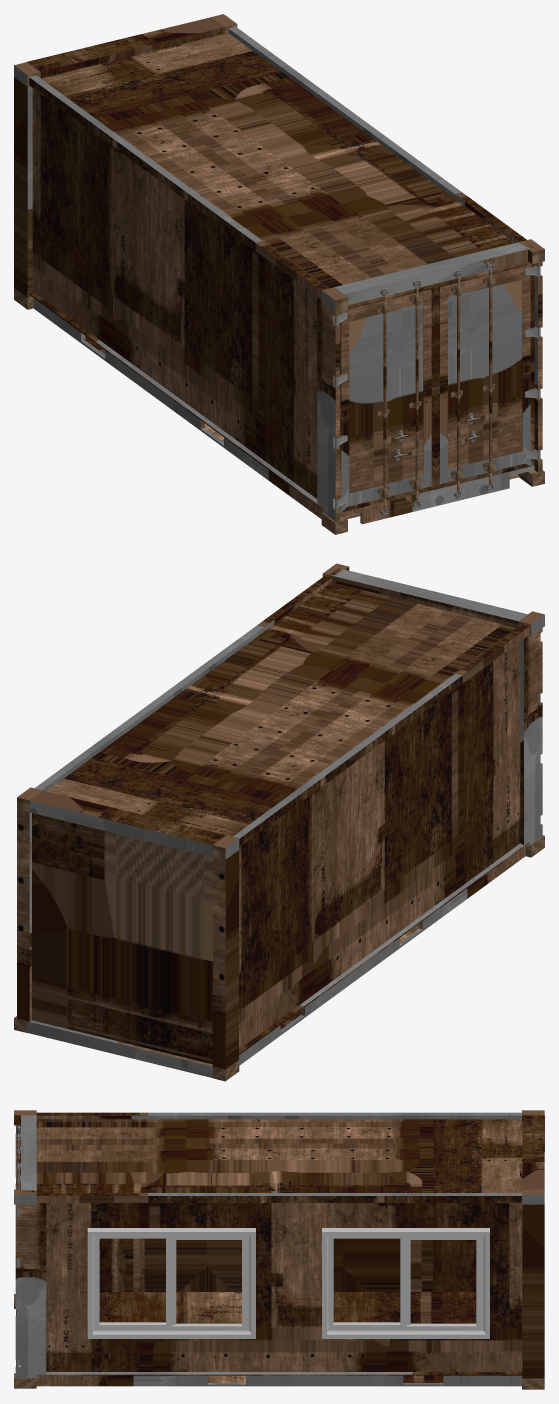
The model's file is Contener_green_2_Miror_Windown.fbx.
3 views of the same model, one above another, from view 1: azimuth 30°, elevation 25°; view 2: azimuth 150°, elevation 25°; view 3: azimuth 270°, elevation 25° (orthographic). The views are drawn at different scales.
Parts seen in each view (by area): view 1: Box, windown1, windown2; view 2: Box; view 3: Box, windown3, windown4, windown6, windown8, windown7, windown5.
Boxes of the visible parts, box(x1,y1,x2,y2) form: Box: box(14, 14, 544, 534); windown1: box(435, 261, 540, 498); windown2: box(335, 281, 435, 516); Box: box(14, 563, 544, 1081); Box: box(14, 1110, 544, 1389); windown3: box(87, 1228, 255, 1338); windown4: box(322, 1228, 489, 1338); windown6: box(166, 1236, 249, 1330); windown8: box(400, 1236, 483, 1330); windown7: box(328, 1236, 410, 1330); windown5: box(94, 1236, 176, 1330).
Size of what is drawn, in the model's own units: 231 by 242 by 601.
